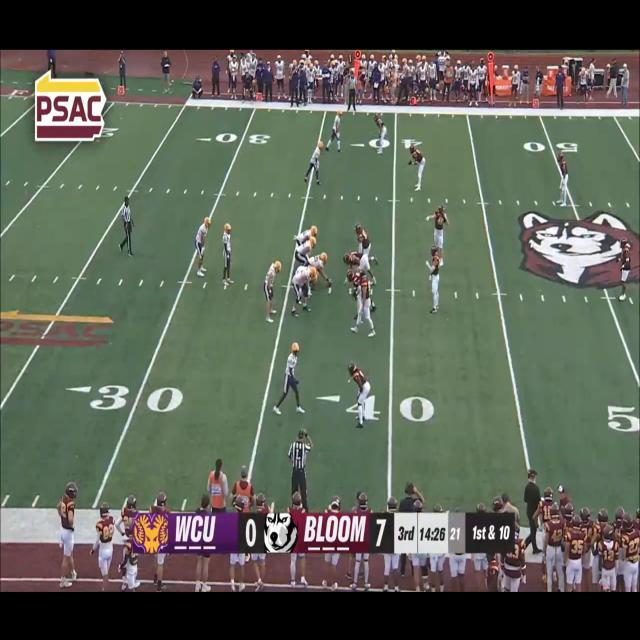football: (326, 275, 334, 288)
